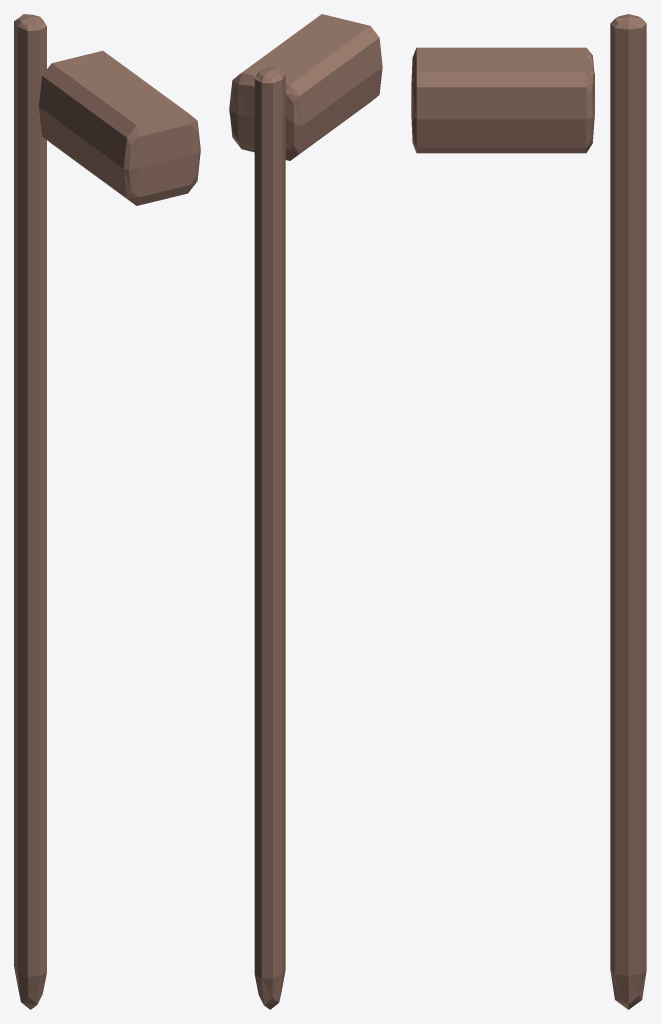
Rendered from high-platform3.dae.
3 views of the same model, side by side, from view 1: azimuth 30°, elevation 25°; view 2: azimuth 150°, elevation 25°; view 3: azimuth 270°, elevation 25° (orthographic). The views are drawn at different scales.
Parts seen in each view (by area): view 1: Cube; view 2: Cube; view 3: Cube.
Boxes of the visible parts, x1,y1,x2,y2 form: Cube: (14,14,200,1009); Cube: (229,14,382,1009); Cube: (411,14,646,1009).
Size of the model in its own units: 6 by 15.87 by 73.8.
